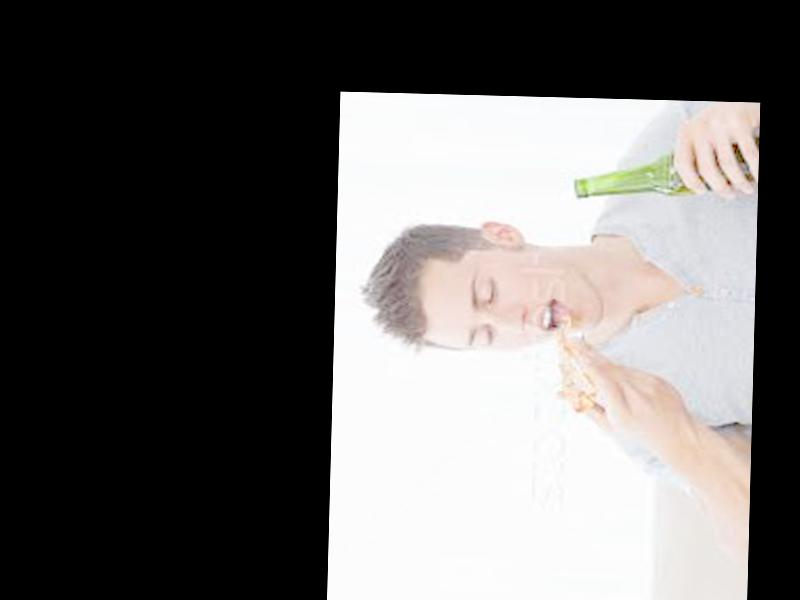Beer: (574, 130, 759, 204)
